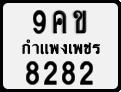letters: (31, 9, 46, 34), (25, 60, 40, 85), (43, 60, 57, 86), (52, 10, 67, 34), (62, 60, 76, 85), (73, 10, 87, 34), (80, 61, 93, 85)
province: (21, 38, 100, 55)
